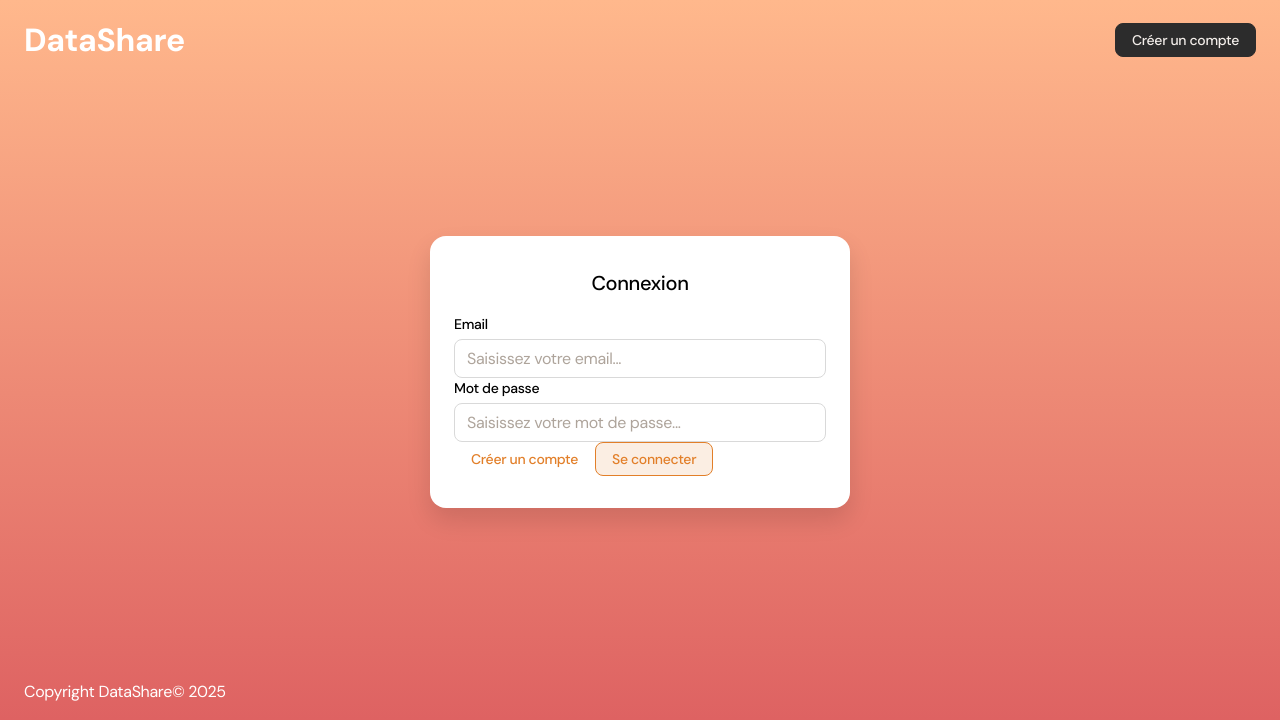
Test case: LoginPage › affiche un Callout error sur 401 invalid-credentials
The image size is (1280, 720).
Type "foo@bar.fr" into the field labelled "Email" at (640, 358), box [454,339,826,378]
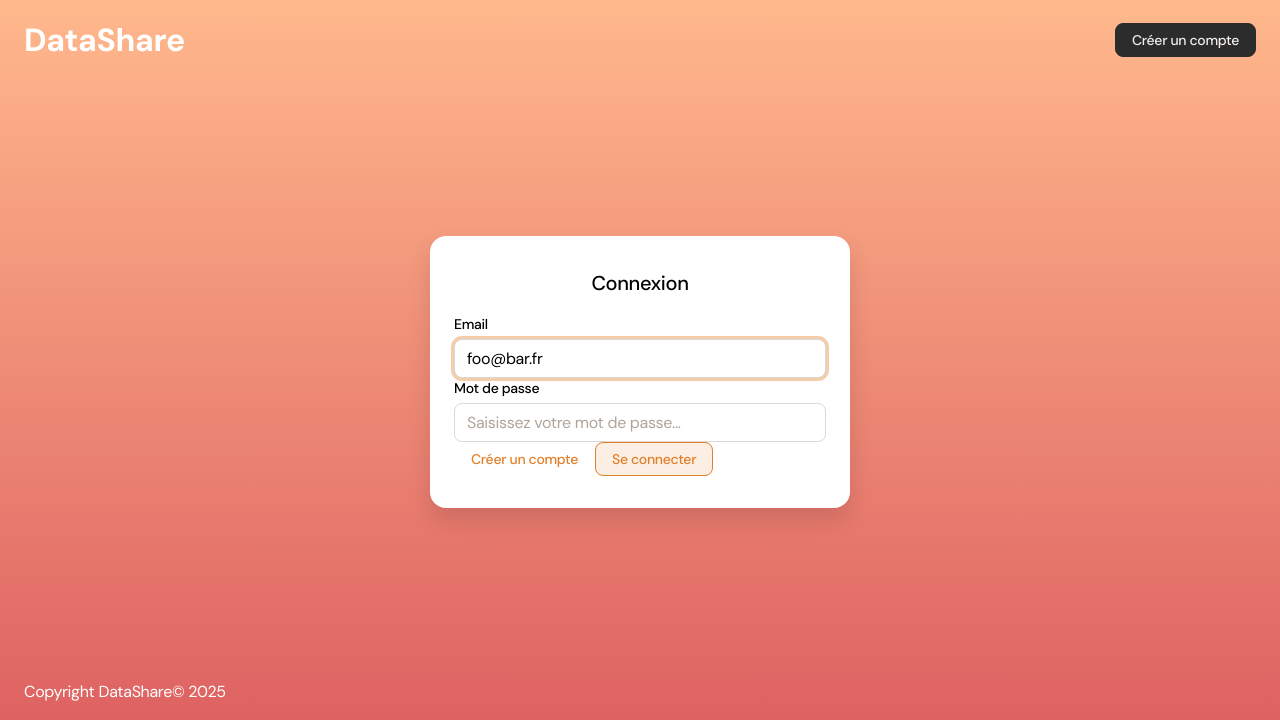
Type "wrongPassword" into the password field labelled "Mot de passe" at (640, 422), box [454,403,826,442]
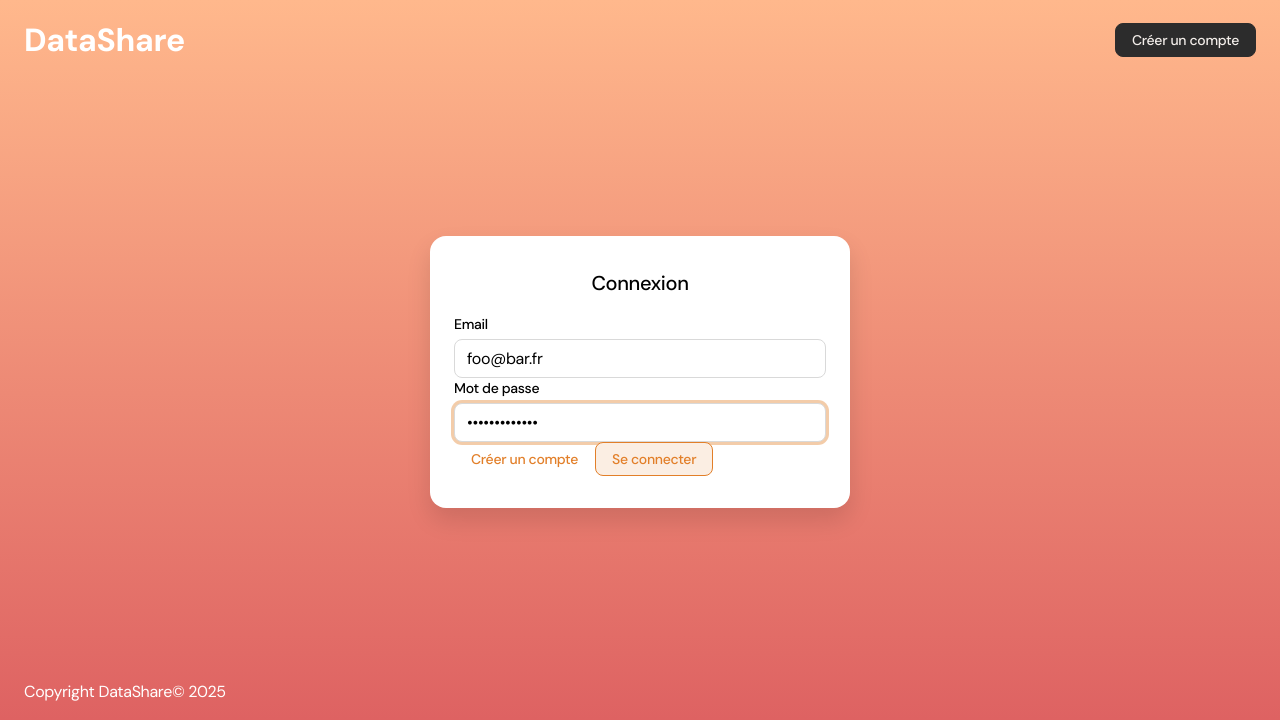
Click the button "Se connecter" at (654, 459), box [595,442,713,476]
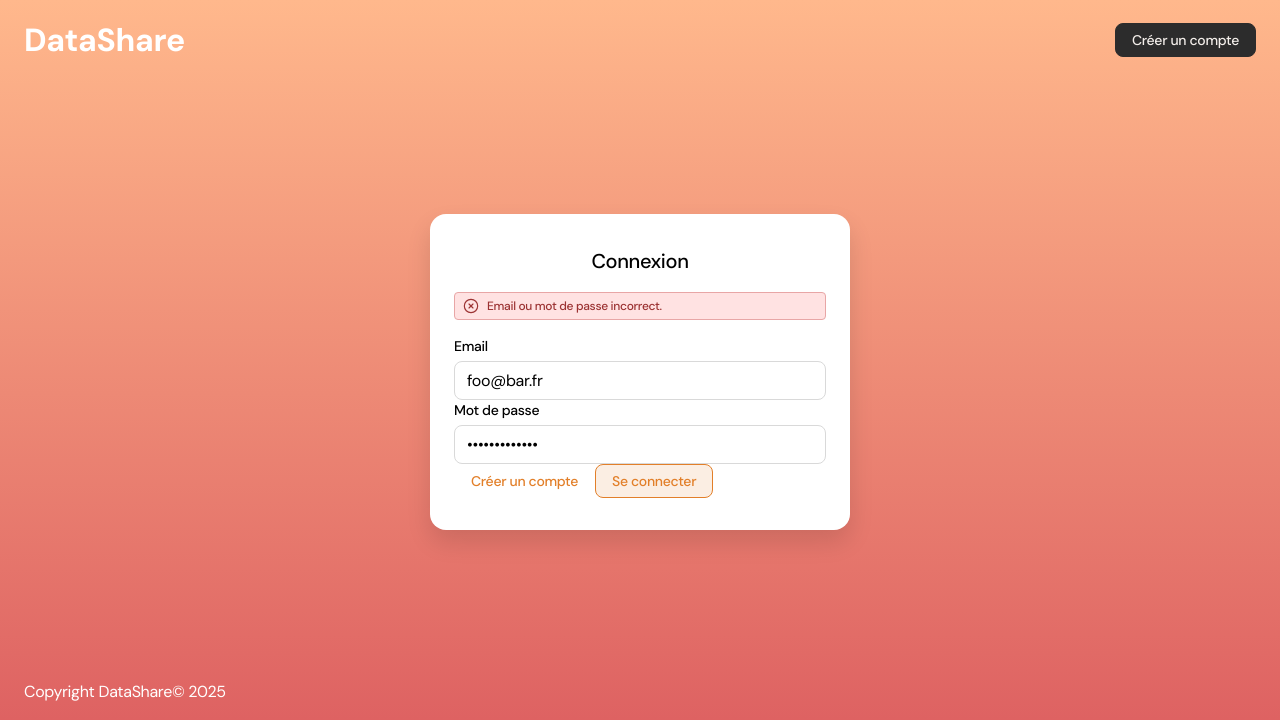
Expected: the text "Email ou mot de passe incorrect." is shown, [487,297,662,315]
